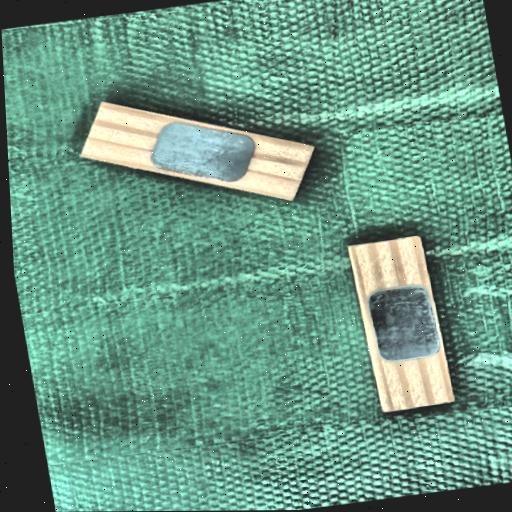objects: (79, 99, 313, 205), (346, 231, 454, 416)
